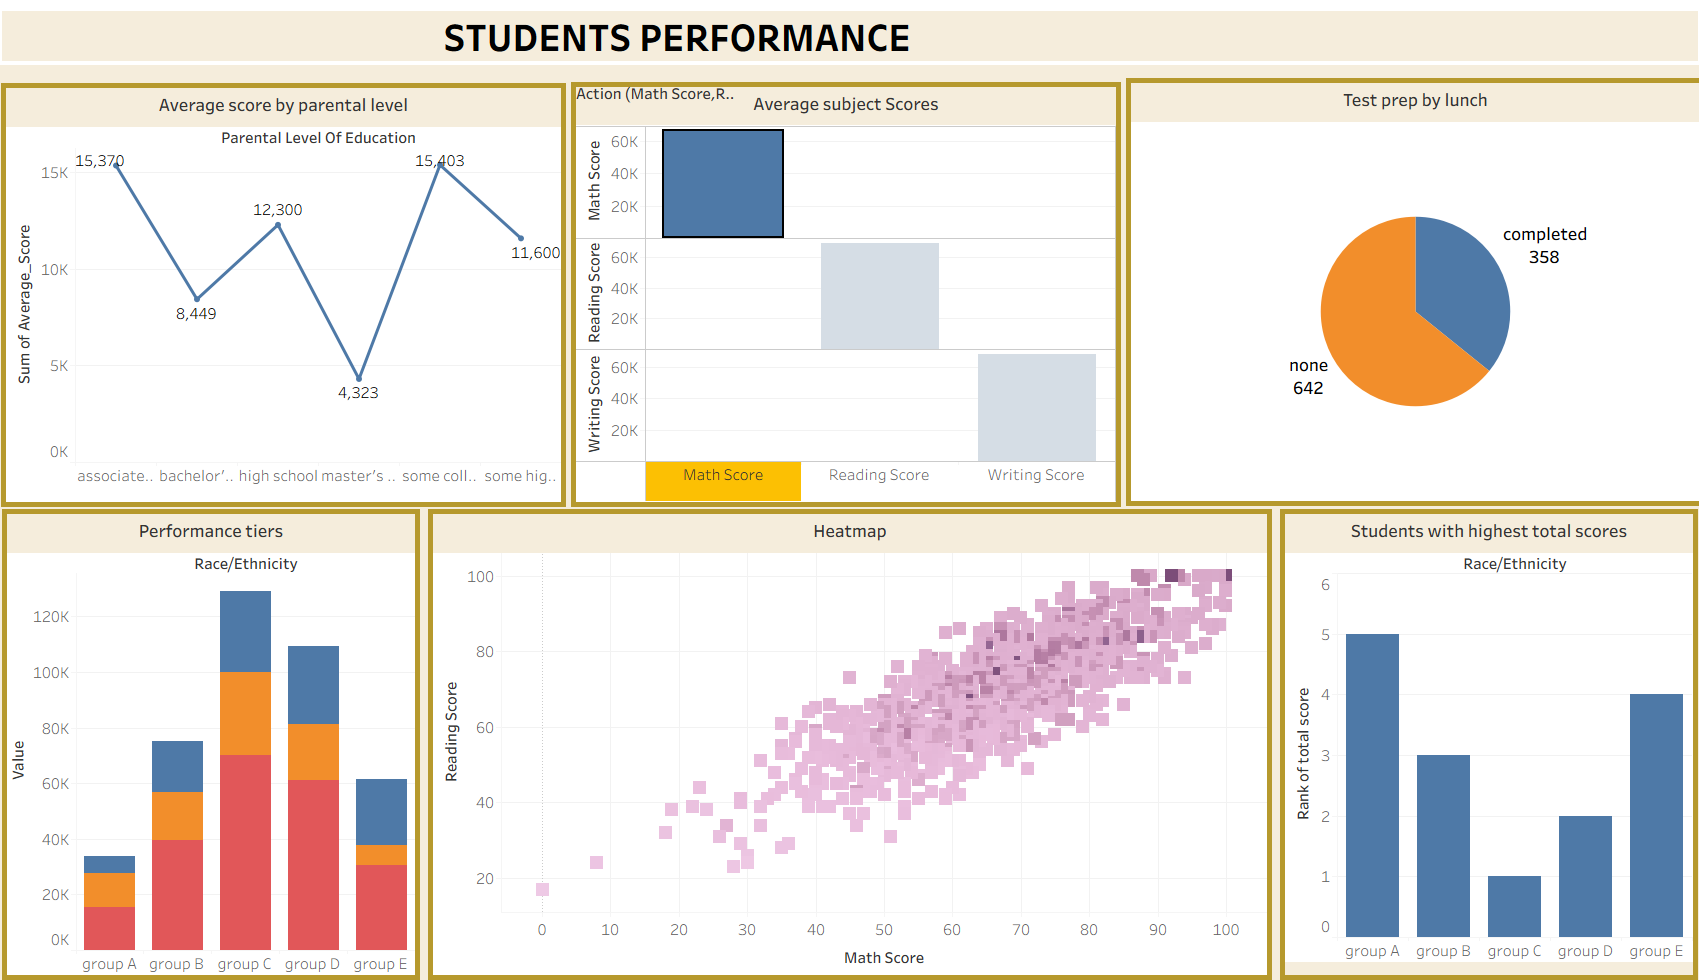

Layout of this report page (visuals, bound fields, positions):
{"tool":"tableau","page":{"name":"Dashboard 1","canvas":[1000,1000],"units":"permille","ordinal":0},"visuals":[{"type":"title","box":[4.2,10,991.5,72.4]},{"type":"dashboard-object","box":[109,10,14.1,30]},{"type":"worksheet","title":"Test prep by lunch","mark":"Pie","box":[695.8,79.9,301.8,430.7]},{"type":"worksheet","title":"Average subject Scores","mark":"Bar","rows":["math score","reading score","writing score"],"box":[363.4,83.7,330,428.2]},{"type":"worksheet","title":"Average score by parental level","mark":"Line","rows":["Calculation_229120684847370240"],"cols":["parental level of education"],"box":[3.7,84.9,357,427]},{"type":"worksheet","title":"Performance tiers","mark":"Bar","cols":["race/ethnicity"],"box":[4.2,516.8,247.8,473.2]},{"type":"worksheet","title":"Heatmap","mark":"Square","rows":["reading score"],"cols":["math score"],"box":[252,516.8,495.7,473.2]},{"type":"worksheet","title":"Students with highest total scores","mark":"Automatic","rows":["Calculation_1673087315499036672"],"cols":["race/ethnicity"],"box":[747.7,516.8,248,473.2]}]}

Visuals, with their boxes on the dashboard's canvas, which has no fixed pixel size, in thousandths of its width and height (x1, y1, x2, y2). These are canvas units, not pixel positions in the 1699x980 screenshot, which may show the page scaled, cropped or inside an application window:
title: 4 10 996 82
dashboard-object: 109 10 123 40
"Test prep by lunch" worksheet (Pie marks): 696 80 998 511
"Average subject Scores" worksheet (Bar marks): 363 84 693 512
"Average score by parental level" worksheet (Line marks): 4 85 361 512
"Performance tiers" worksheet (Bar marks): 4 517 252 990
"Heatmap" worksheet (Square marks): 252 517 748 990
"Students with highest total scores" worksheet: 748 517 996 990
